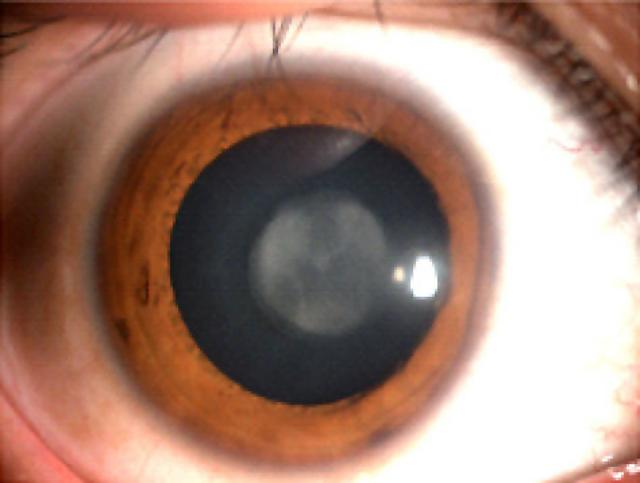eye: (75, 47, 508, 483)
